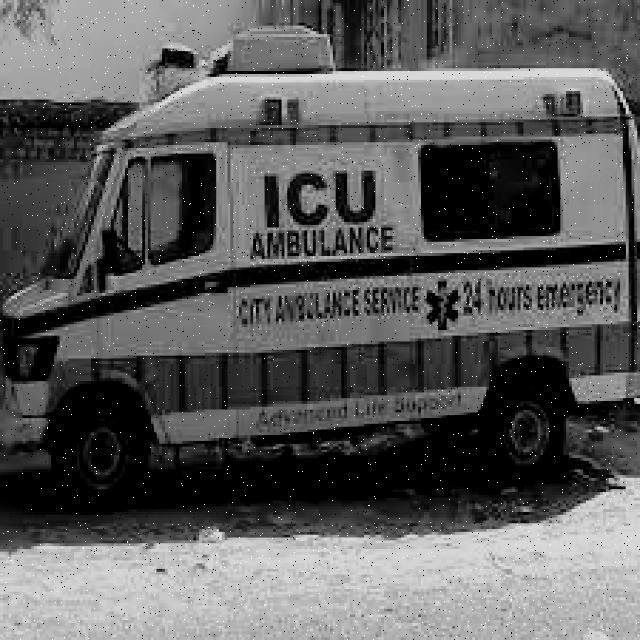Ambulance: (0, 61, 634, 482)
